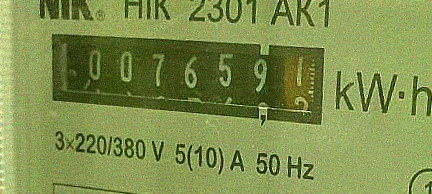0: (114, 45, 137, 87), (83, 45, 106, 84)
1: (287, 52, 310, 90)
5: (212, 49, 237, 91)
6: (178, 50, 203, 93)
7: (145, 48, 170, 89)
9: (248, 54, 272, 96)
screen: (36, 18, 335, 135)
